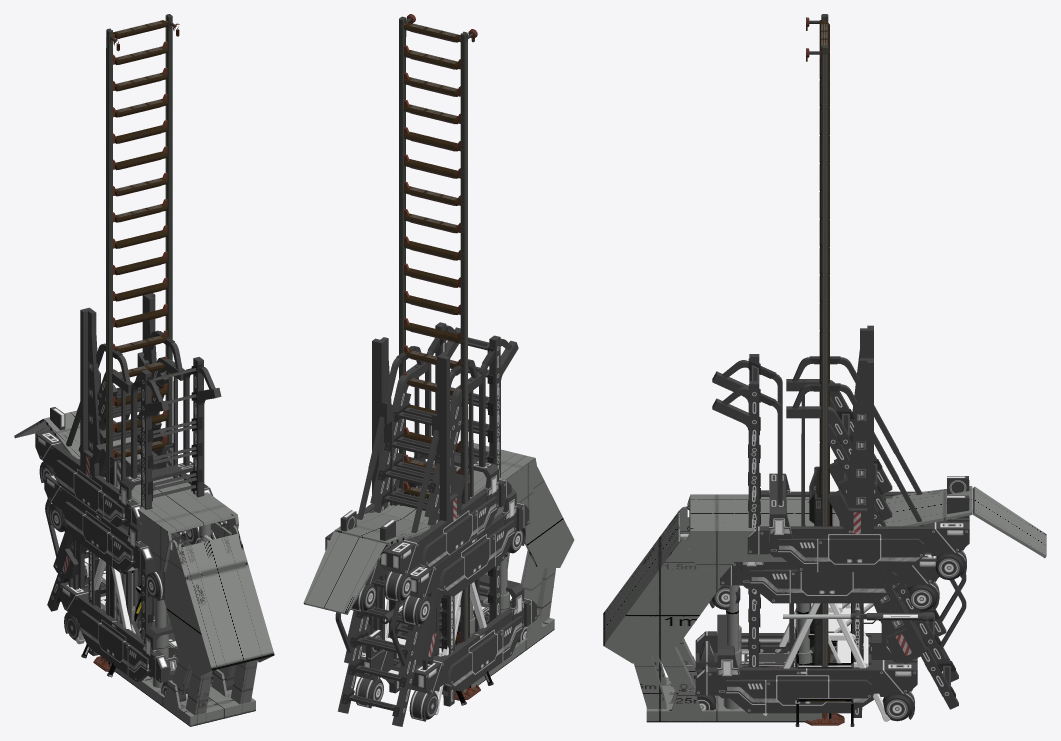
File: heben.glb
3 views of the same model, side by side, from view 1: azimuth 30°, elevation 25°; view 2: azimuth 150°, elevation 25°; view 3: azimuth 270°, elevation 25° (orthographic). The views are drawn at different scales.
Visible parts, largest first — view 1: prop_heben_tool_jack_1_a, prop_heben_ladder_mobile_1_b, prop_heben_ladder_freestanding_0065x0025x06_b, prop_heben_ladder_mobile_1_a, prop_heben_ladder_mobile_1_c, prop_heben_ladder_step_1_a; view 2: prop_heben_ladder_mobile_1_a, prop_heben_ladder_mobile_1_b, prop_heben_ladder_freestanding_0065x0025x06_b, prop_heben_tool_jack_1_a, prop_heben_ladder_mobile_1_c, prop_heben_ladder_step_1_a; view 3: prop_heben_tool_jack_1_a, prop_heben_ladder_mobile_1_a, prop_heben_ladder_mobile_1_b, prop_heben_ladder_mobile_1_c, prop_heben_ladder_freestanding_0065x0025x06_b, prop_heben_ladder_step_1_a, prop_heben_ladder_step_1_b.
Boxes of the visible parts, x1,y1,x2,y2 form: prop_heben_tool_jack_1_a: [14, 410, 274, 726]; prop_heben_ladder_mobile_1_b: [35, 293, 227, 680]; prop_heben_ladder_freestanding_0065x0025x06_b: [93, 14, 179, 672]; prop_heben_ladder_mobile_1_a: [45, 330, 232, 701]; prop_heben_ladder_mobile_1_c: [44, 473, 215, 655]; prop_heben_ladder_step_1_a: [76, 558, 131, 644]; prop_heben_ladder_mobile_1_a: [335, 346, 537, 726]; prop_heben_ladder_mobile_1_b: [325, 322, 518, 632]; prop_heben_ladder_freestanding_0065x0025x06_b: [386, 14, 480, 700]; prop_heben_tool_jack_1_a: [303, 441, 574, 692]; prop_heben_ladder_mobile_1_c: [350, 487, 529, 706]; prop_heben_ladder_step_1_a: [385, 582, 486, 715]; prop_heben_tool_jack_1_a: [603, 486, 1046, 722]; prop_heben_ladder_mobile_1_a: [694, 356, 966, 721]; prop_heben_ladder_mobile_1_b: [680, 325, 969, 667]; prop_heben_ladder_mobile_1_c: [709, 552, 939, 717]; prop_heben_ladder_freestanding_0065x0025x06_b: [805, 14, 844, 725]; prop_heben_ladder_step_1_a: [763, 603, 889, 721]; prop_heben_ladder_step_1_b: [795, 603, 854, 726].
Size of the model in its own units: 0.891 by 6.04 by 3.6.
Materials: 23 (19 with a texture image).
